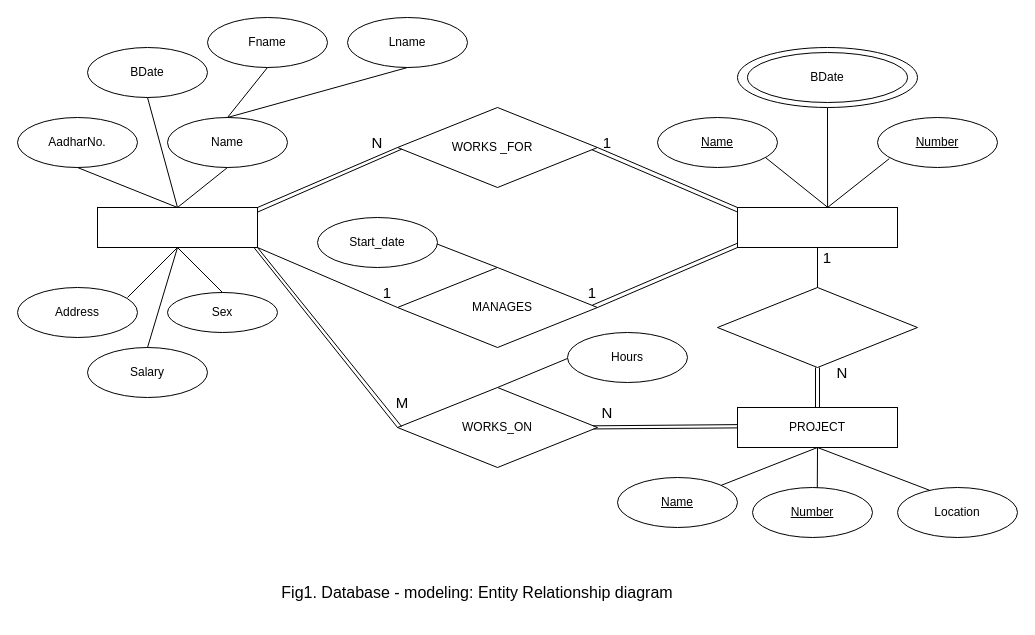
Image size: 1035x635. Some labels were removed from this diagram. The shapes that lost their labels are listed below. From the top down, each one's box as (x1, y1, x2, y2) in pixels, then its label:
(96, 206, 258, 248): EMPLOYEE
(736, 206, 898, 248): DEPARTMENT
(716, 286, 918, 368): CONTROLS
